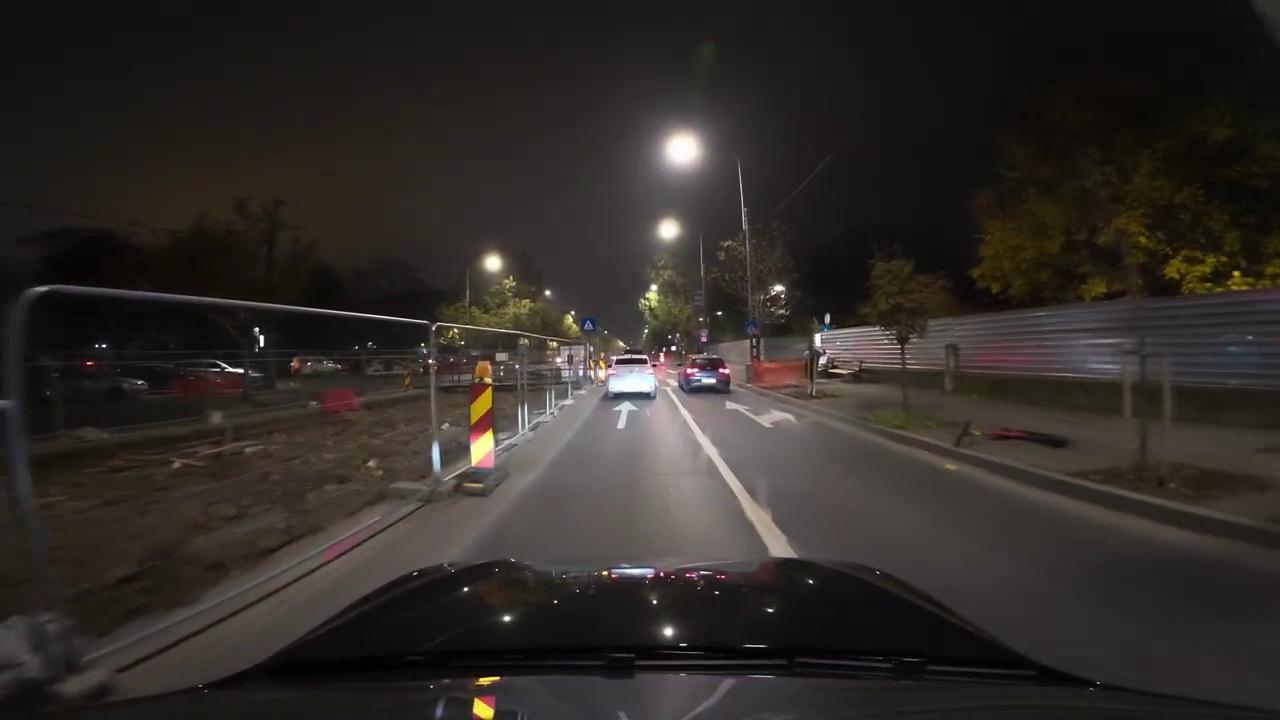acesa: (664, 133, 699, 164), (655, 215, 683, 243), (479, 250, 507, 276)
